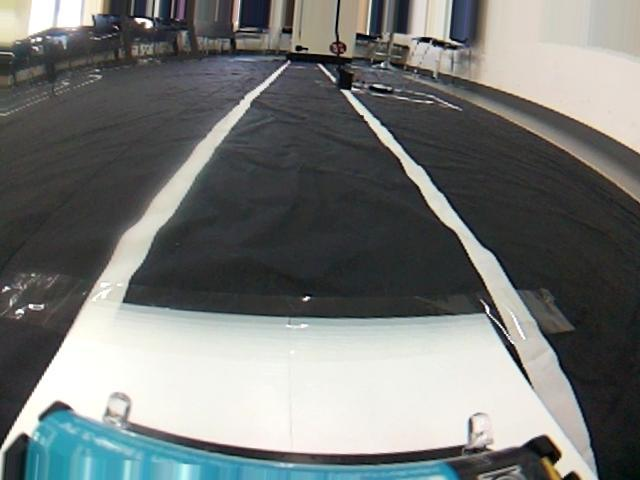hill_down: (2, 294, 634, 480)
straight: (6, 132, 635, 318)
